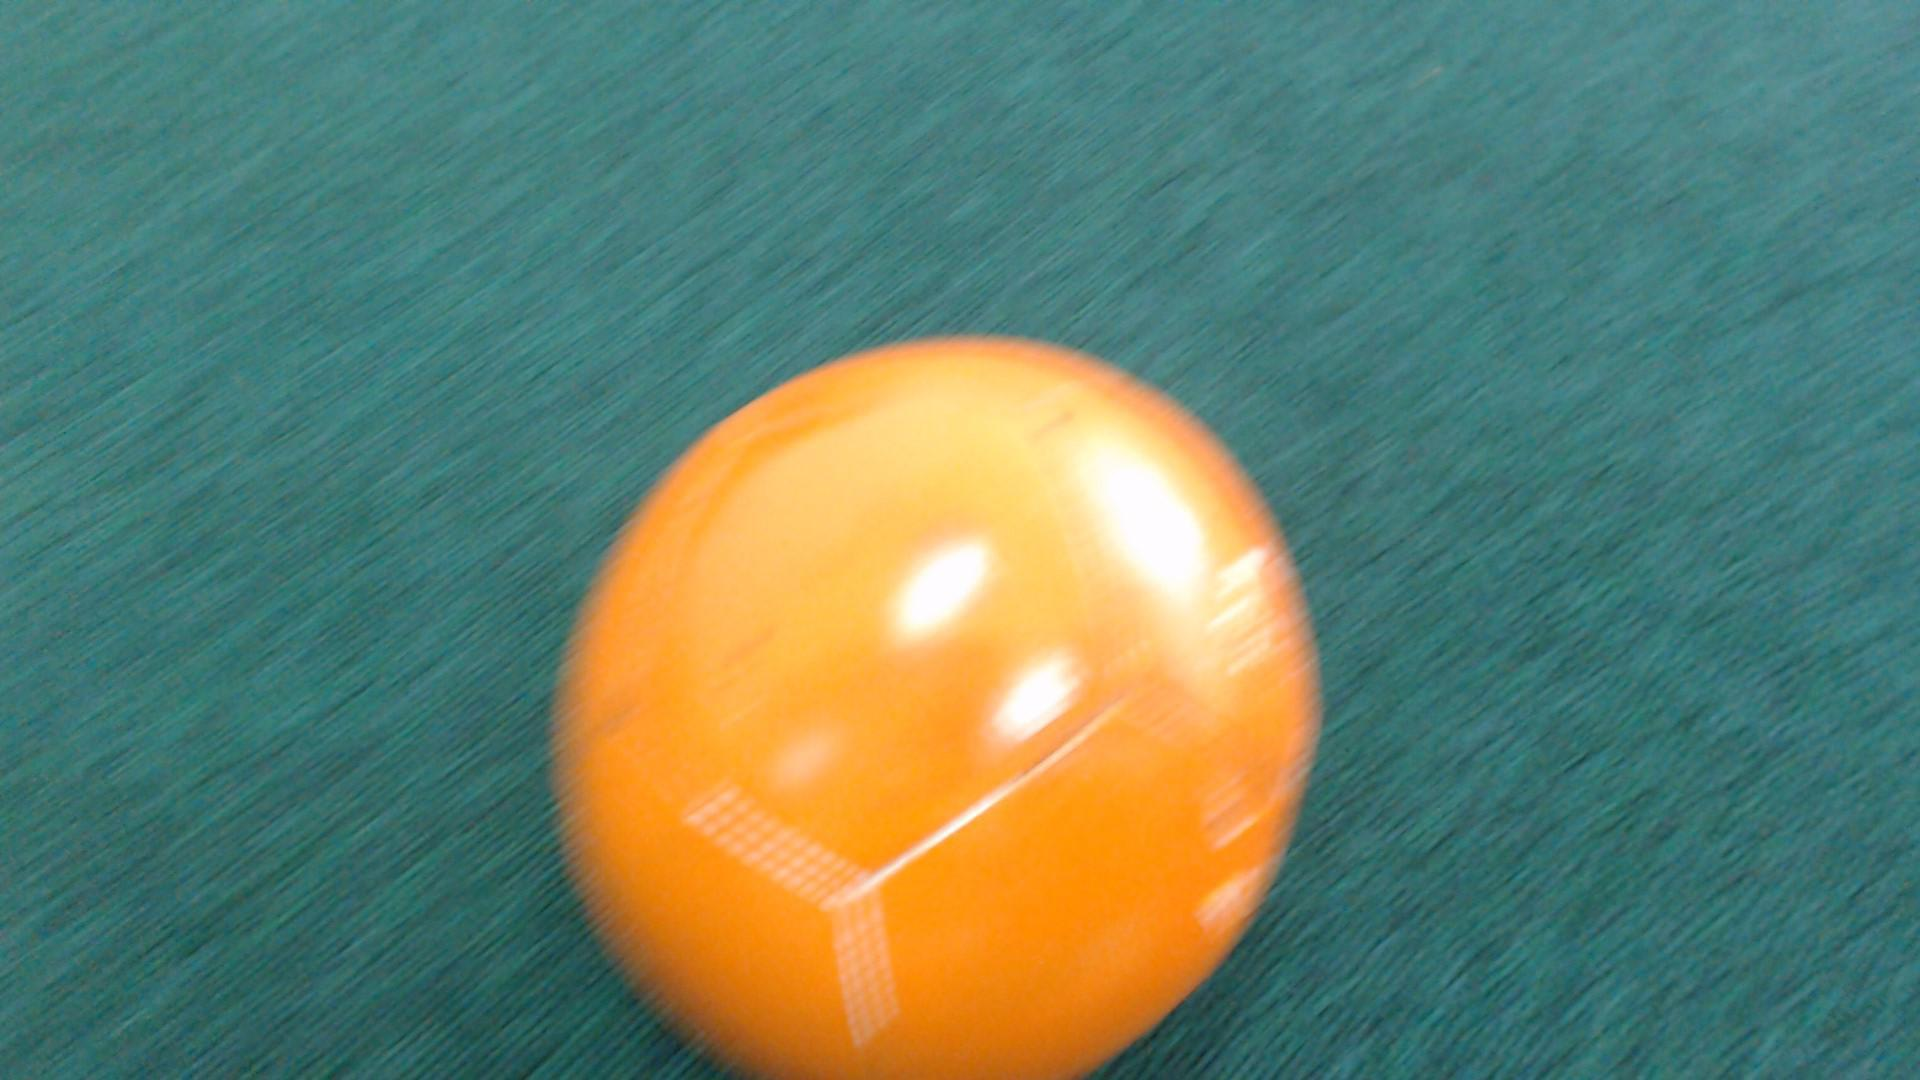bola: (530, 305, 1341, 1079)
